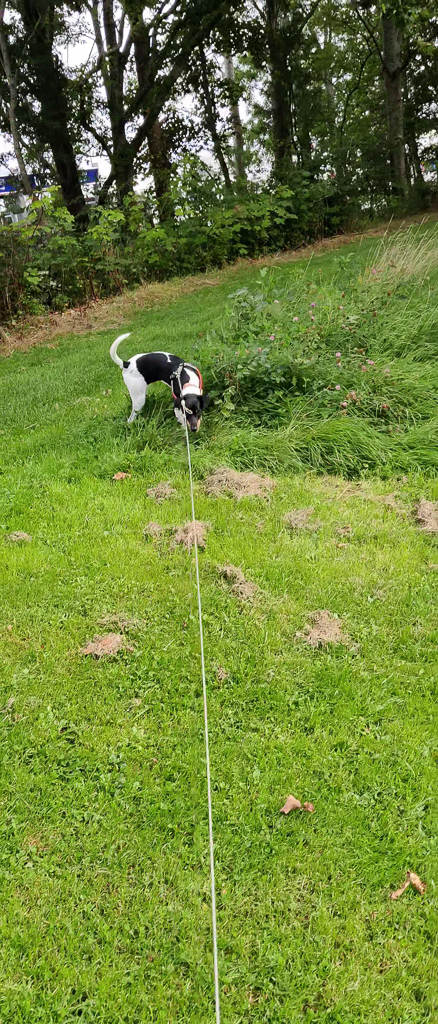Dog: (106, 327, 221, 439)
